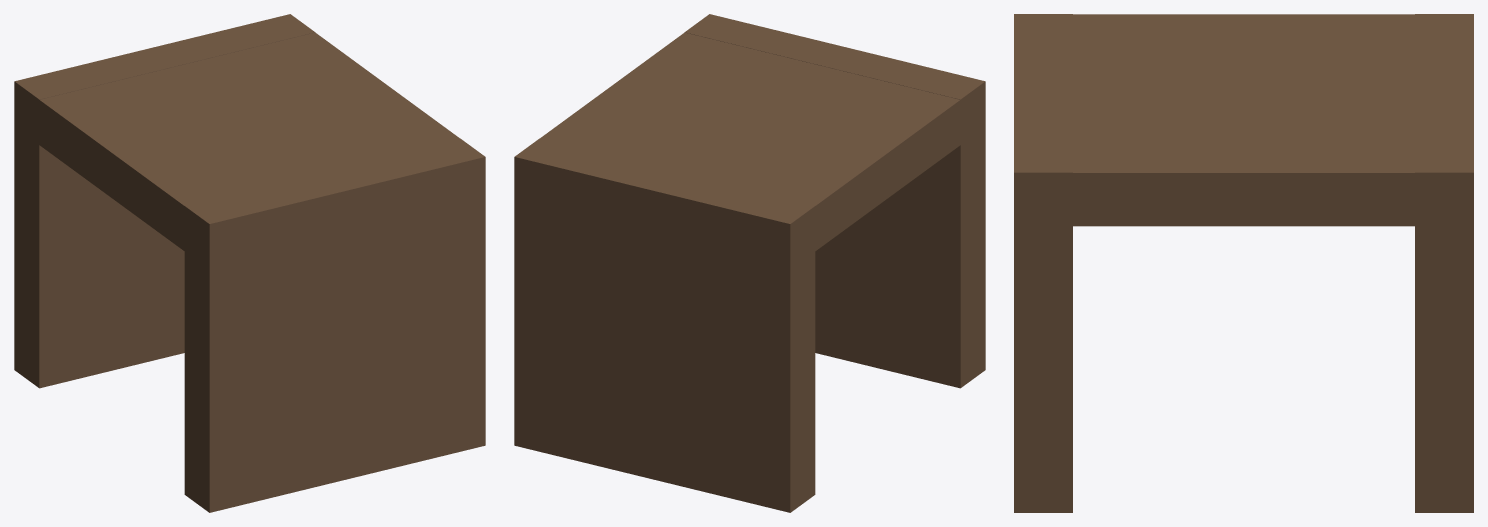
File: furniture 1.fbx
The picture shows the model from 3 angles, left to right: view 1: azimuth 30°, elevation 25°; view 2: azimuth 150°, elevation 25°; view 3: azimuth 270°, elevation 25°; orthographic projection. The views are drawn at different scales.
Parts seen in each view (by area): view 1: pCube32, pCube33, pCube31; view 2: pCube31, pCube33, pCube32; view 3: pCube33, pCube32, pCube31.
Part boxes in pixels (x1,y1,x2,y2): pCube32: (184,138,485,512); pCube33: (33,32,459,256); pCube31: (14,14,315,388); pCube31: (514,138,815,512); pCube33: (540,32,968,255); pCube32: (684,14,985,388); pCube33: (1054,14,1429,226); pCube32: (1014,14,1072,512); pCube31: (1415,14,1473,512).
Size of the model in its own units: 1.81 by 1.81 by 2.22.
